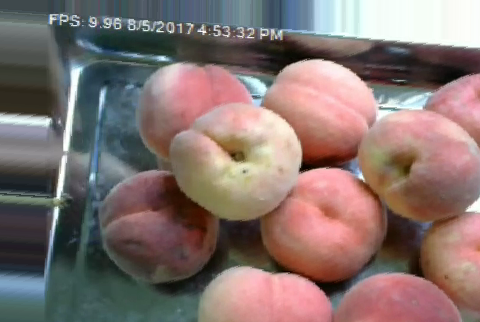Peach: (171, 101, 302, 221), (260, 167, 386, 279), (98, 168, 218, 283), (358, 109, 480, 220), (135, 59, 255, 163), (263, 59, 379, 165), (195, 264, 332, 320), (333, 273, 462, 321), (418, 212, 479, 311)
